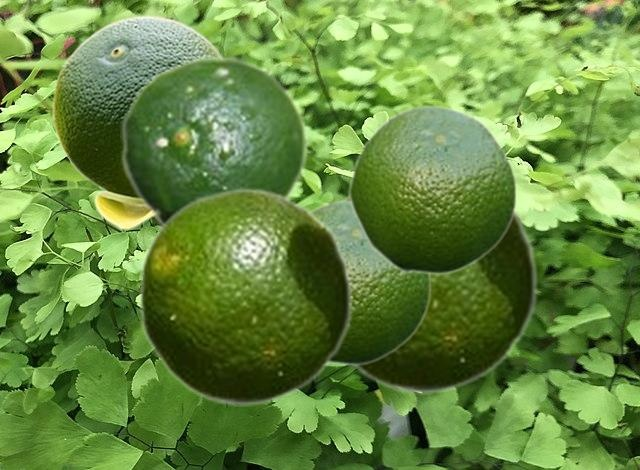calamansi: (137, 187, 353, 405), (338, 192, 538, 393), (52, 15, 223, 229), (120, 55, 308, 226), (347, 103, 517, 274), (311, 198, 431, 365)
